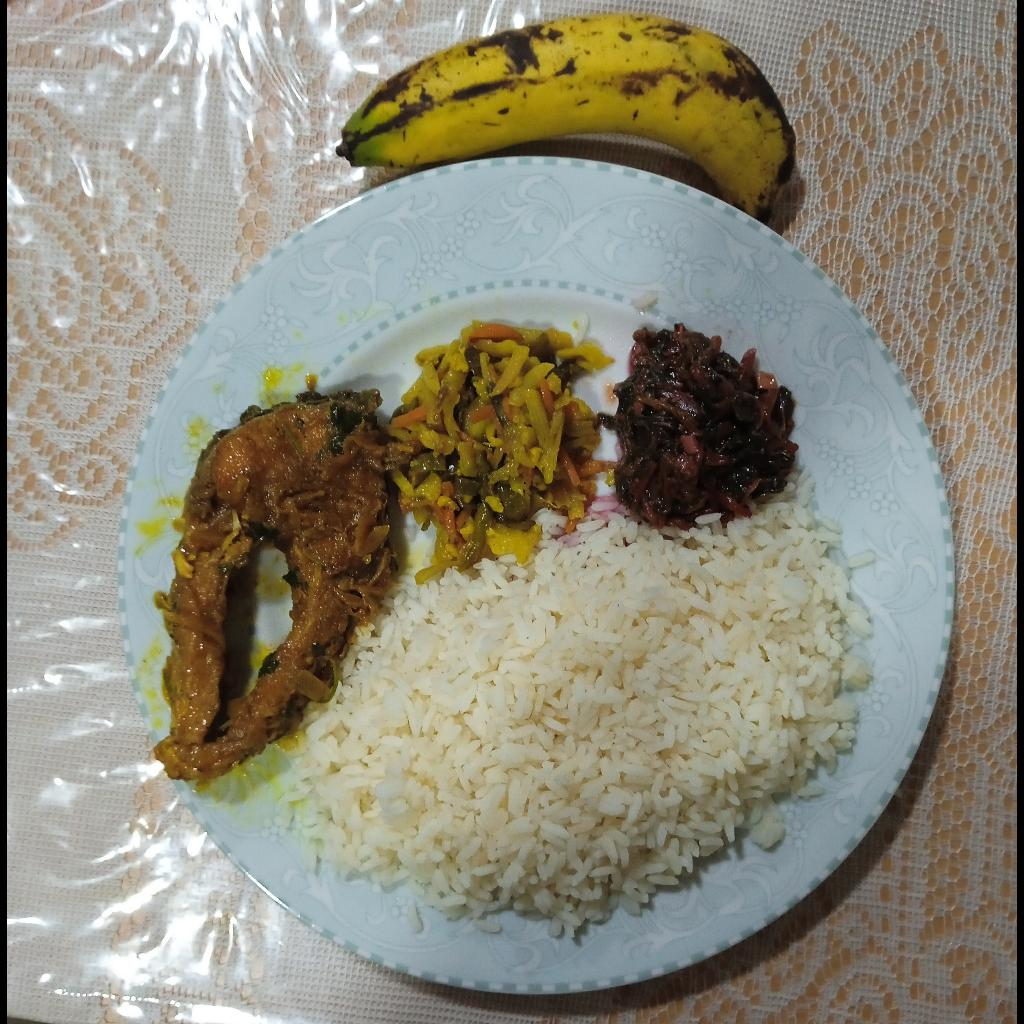banana: (335, 13, 797, 227)
fish: (153, 386, 396, 783)
rice: (272, 468, 878, 940)
shak: (609, 320, 800, 529)
vegetable: (388, 320, 612, 581)
